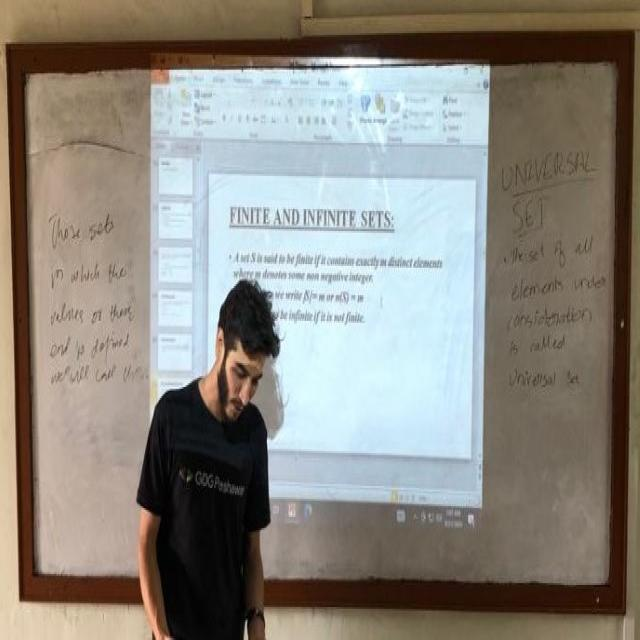Instructor: (134, 256, 284, 633)
Slide: (151, 51, 494, 536)
White-board: (18, 45, 629, 607)
